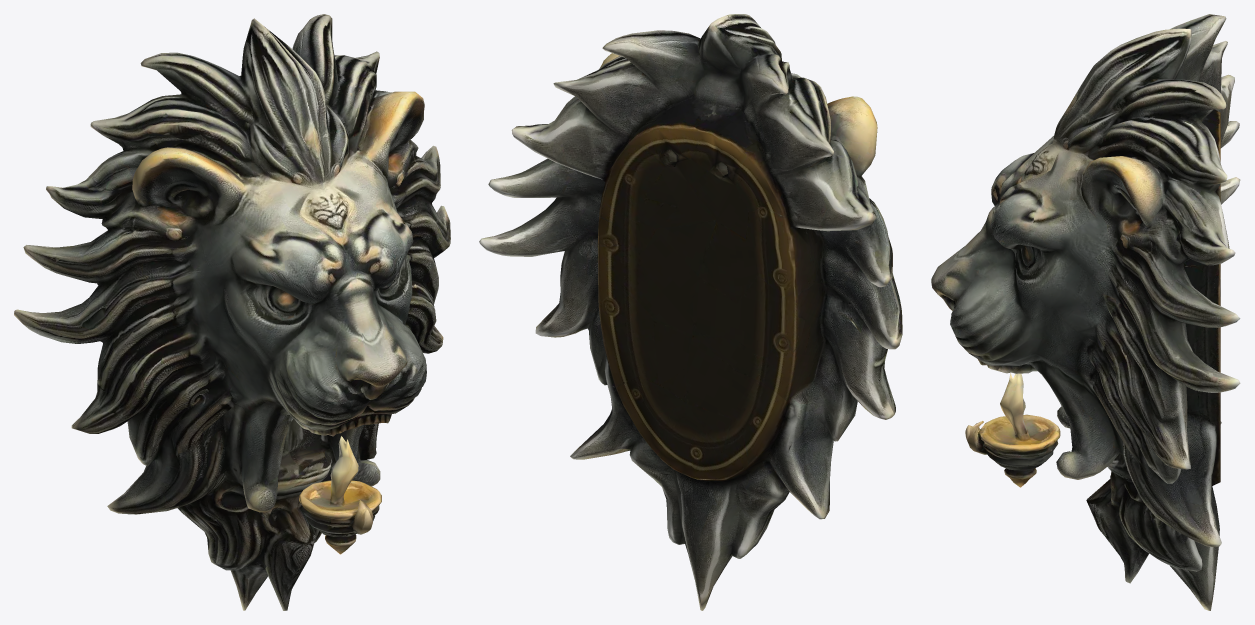
The model's file is babylon_lion_sconce.glb.
3 views of the same model, side by side, from view 1: azimuth 30°, elevation 25°; view 2: azimuth 150°, elevation 25°; view 3: azimuth 270°, elevation 25° (orthographic). The views are drawn at different scales.
Bounding box in the file's own units: 1.44 × 1.91 × 0.918.
Materials: 1 (1 with a texture image).
